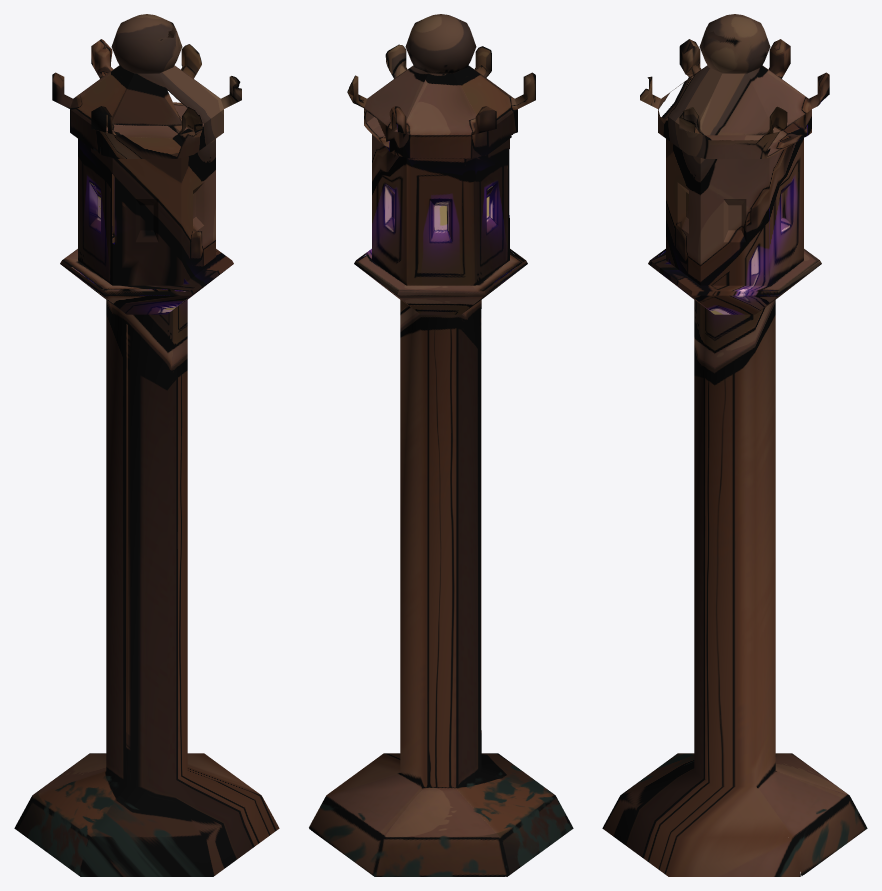
File: lantern_wooden.fbx
3 renders of one model, left to right at view 1: azimuth 30°, elevation 25°; view 2: azimuth 150°, elevation 25°; view 3: azimuth 270°, elevation 25°, orthographic.
Visible parts, largest first — view 1: Sphere.003; view 2: Sphere.003; view 3: Sphere.003.
Boxes of the visible parts, x1=… form: Sphere.003: x1=14, y1=14, x2=279, y2=876; Sphere.003: x1=309, y1=14, x2=573, y2=876; Sphere.003: x1=602, y1=14, x2=867, y2=876.
Size of the model in its own units: 107 by 416 by 123.
